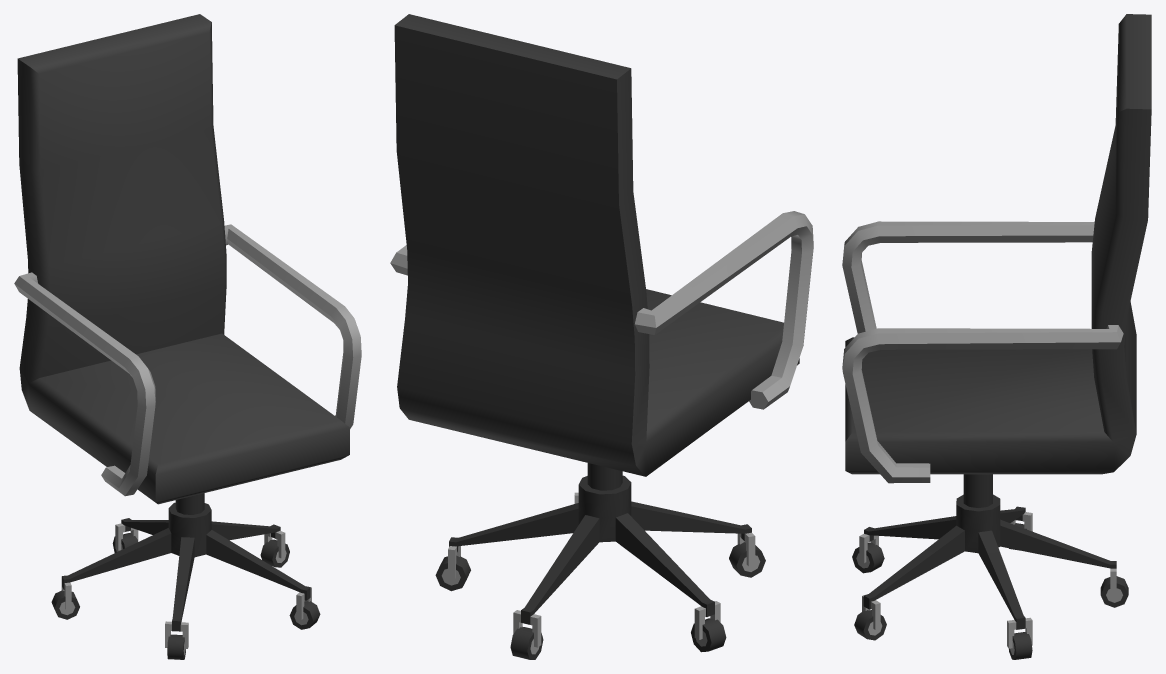
The model's file is office_chair004.glb.
3 renders of one model, left to right at view 1: azimuth 30°, elevation 25°; view 2: azimuth 150°, elevation 25°; view 3: azimuth 270°, elevation 25°, orthographic. The views are drawn at different scales.
Parts seen in each view (by area): view 1: office_chair.004; view 2: office_chair.004; view 3: office_chair.004.
Boxes of the visible parts, box(x1,y1,x2,y2) form: office_chair.004: box(14, 14, 361, 659); office_chair.004: box(390, 14, 813, 659); office_chair.004: box(842, 14, 1151, 659).
Size of the model in its own units: 0.5309 by 1.1 by 0.5678.
Materials: 1 (1 with a texture image).
